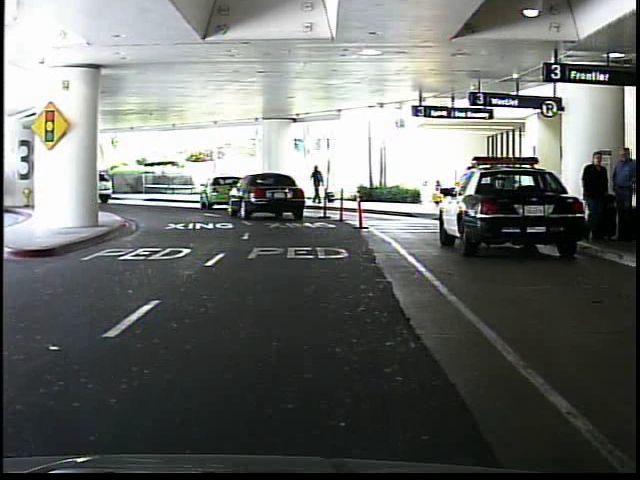person: (580, 145, 613, 245), (608, 143, 635, 243), (311, 160, 330, 204)
